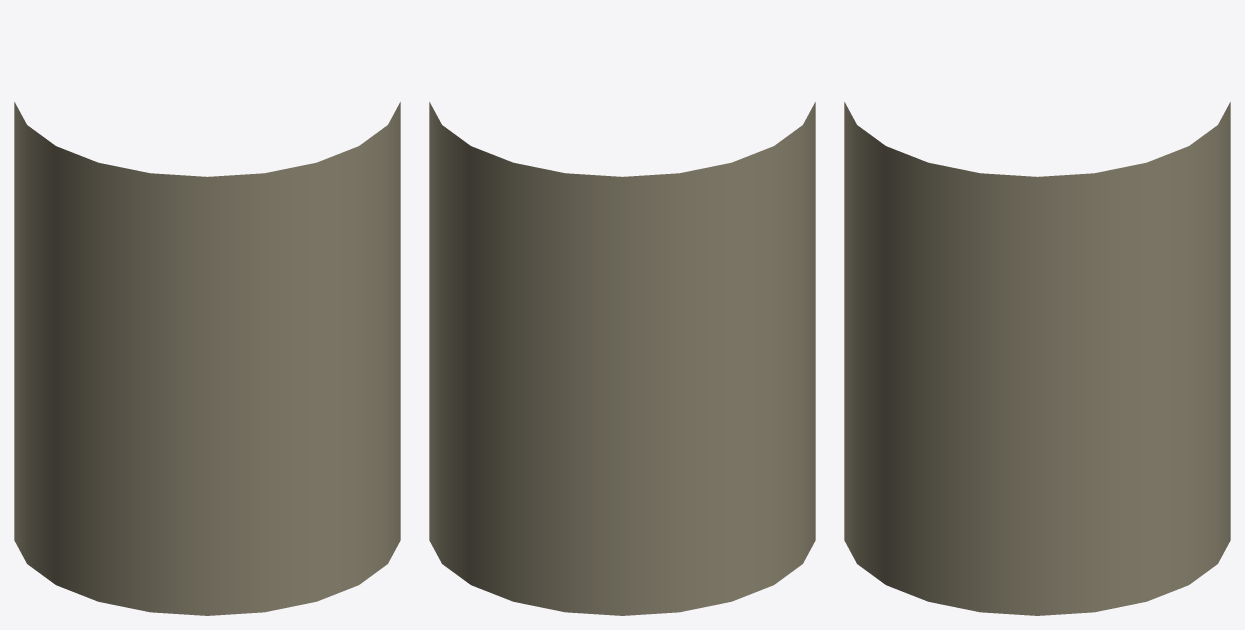
Rendered from SM_ventilation_props_22.glb.
3 views of the same model, side by side, from view 1: azimuth 30°, elevation 25°; view 2: azimuth 150°, elevation 25°; view 3: azimuth 270°, elevation 25° (orthographic).
Parts seen in each view (by area): view 1: SM_ventilation_props_22; view 2: SM_ventilation_props_22; view 3: SM_ventilation_props_22.
Part boxes in pixels (bbox=[...]): SM_ventilation_props_22: bbox=[14, 102, 400, 615]; SM_ventilation_props_22: bbox=[429, 102, 815, 615]; SM_ventilation_props_22: bbox=[844, 102, 1230, 615].
Bounding box in the file's own units: 0.7955 × 1 × 0.7978.
